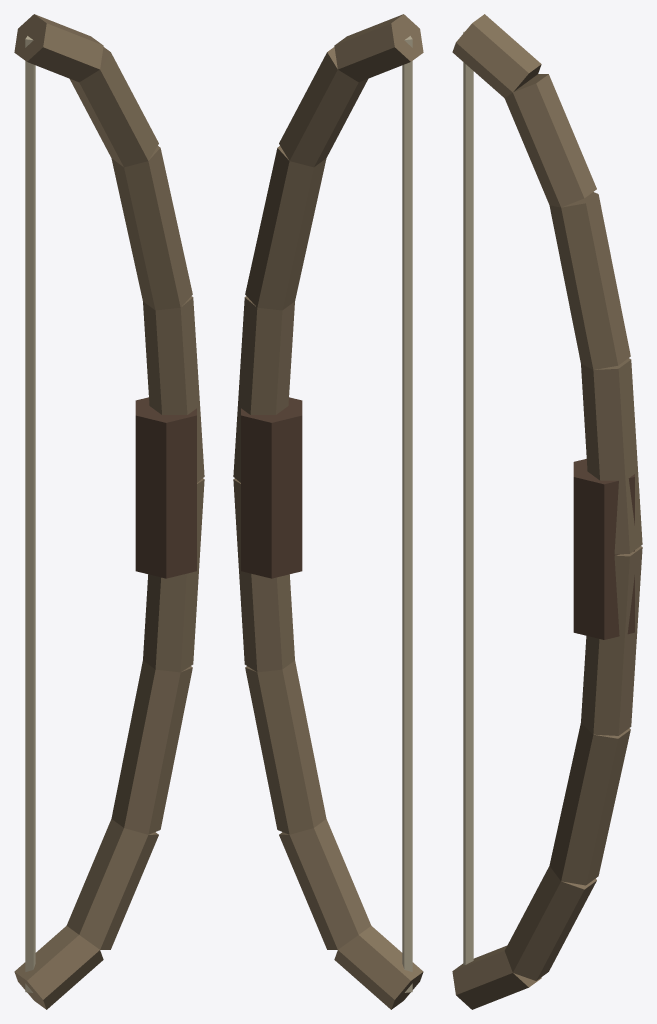
File: NPC_Hand_01_Bow.glb
3 renders of one model, left to right at view 1: azimuth 30°, elevation 25°; view 2: azimuth 150°, elevation 25°; view 3: azimuth 330°, elevation 25°, orthographic.
Parts seen in each view (by area): view 1: NPC_Hand_01_Bow; view 2: NPC_Hand_01_Bow; view 3: NPC_Hand_01_Bow.
Boxes of the visible parts, x1,y1,x2,y2 form: NPC_Hand_01_Bow: (14, 14, 204, 1009); NPC_Hand_01_Bow: (233, 14, 423, 1009); NPC_Hand_01_Bow: (452, 14, 642, 1009).
Bounding box in the file's own units: 0.2029 × 1.08 × 0.0606.
